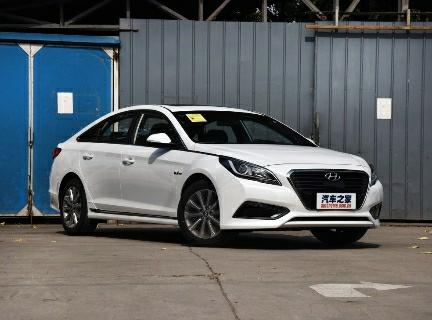car: (39, 91, 391, 246)
